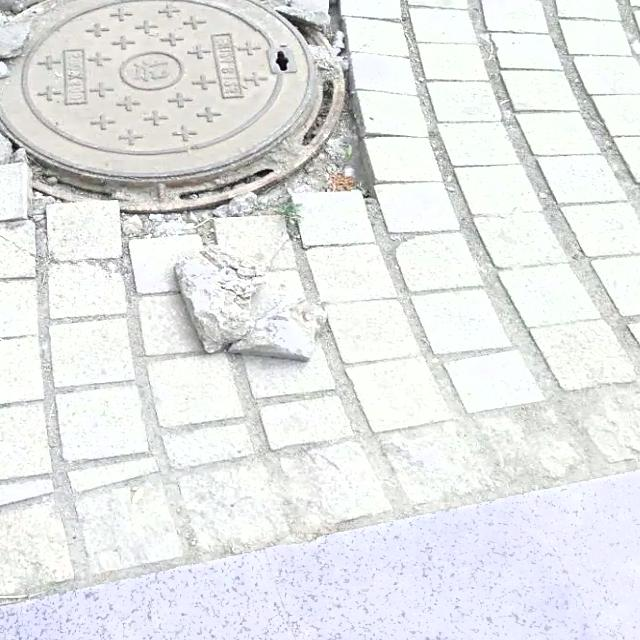circle: (0, 0, 414, 266)
